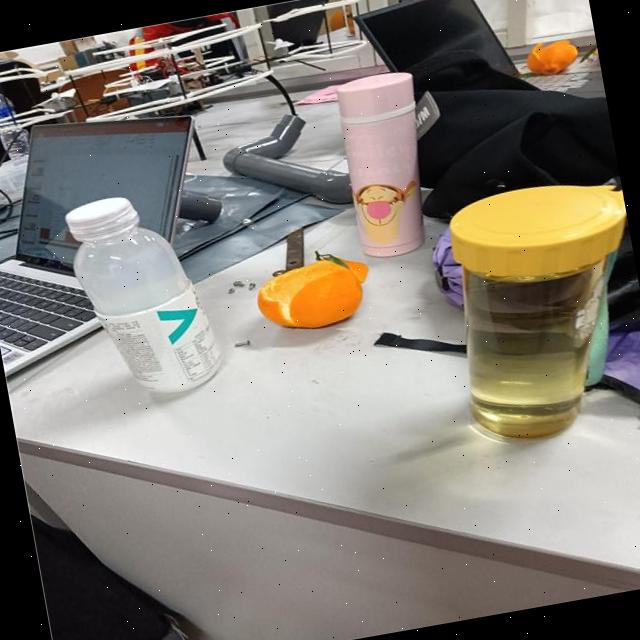orange-peel: (248, 245, 376, 338)
